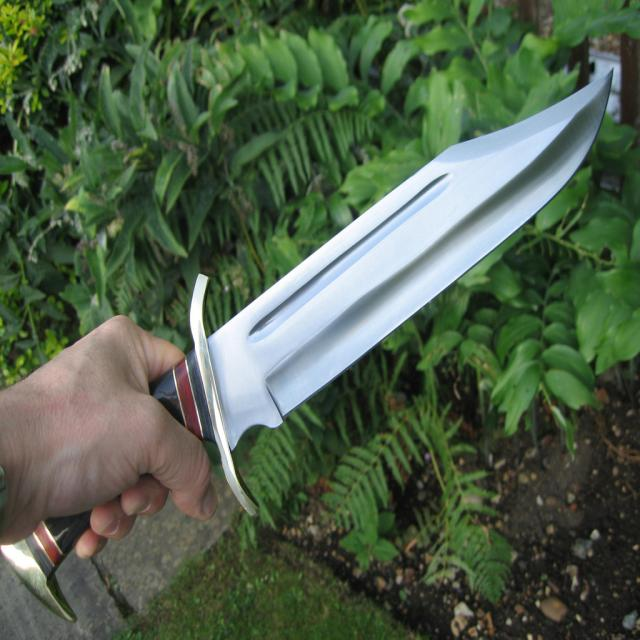knife: (160, 60, 624, 520)
